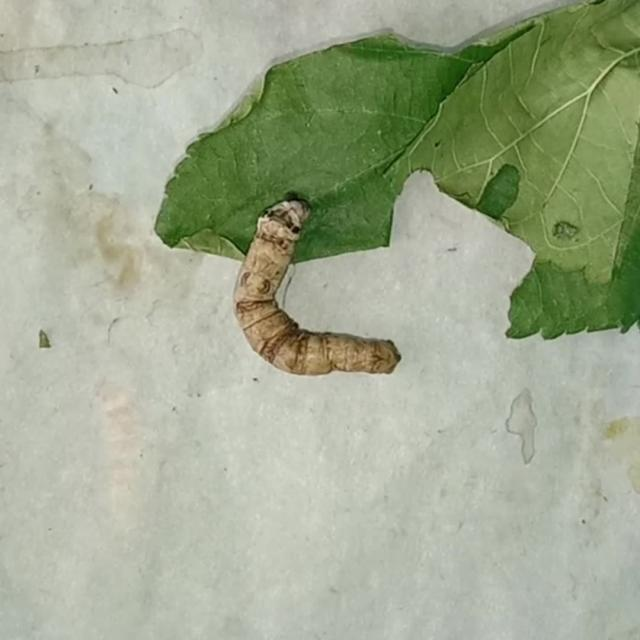Grasserie: (224, 197, 408, 385)
